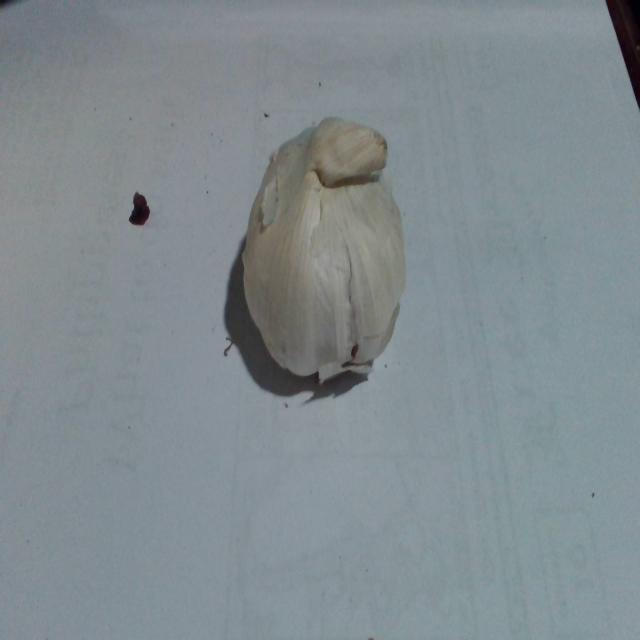garlic: (242, 122, 409, 400)
